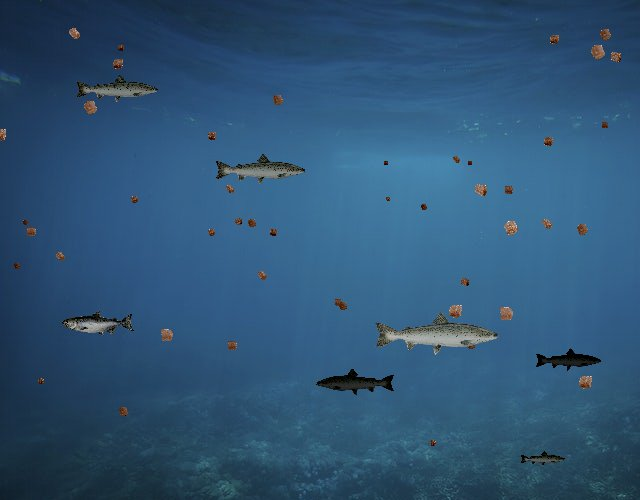Fish: (372, 310, 501, 356), (213, 152, 307, 186), (74, 73, 160, 104), (315, 368, 396, 397), (63, 310, 136, 337), (534, 348, 602, 372), (519, 450, 566, 467)
Pellet: (441, 297, 470, 326), (571, 368, 599, 396), (467, 177, 494, 204), (62, 21, 87, 46), (570, 217, 594, 241), (426, 436, 440, 450), (34, 374, 48, 388)
